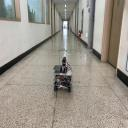cart: (54, 67, 72, 93)
